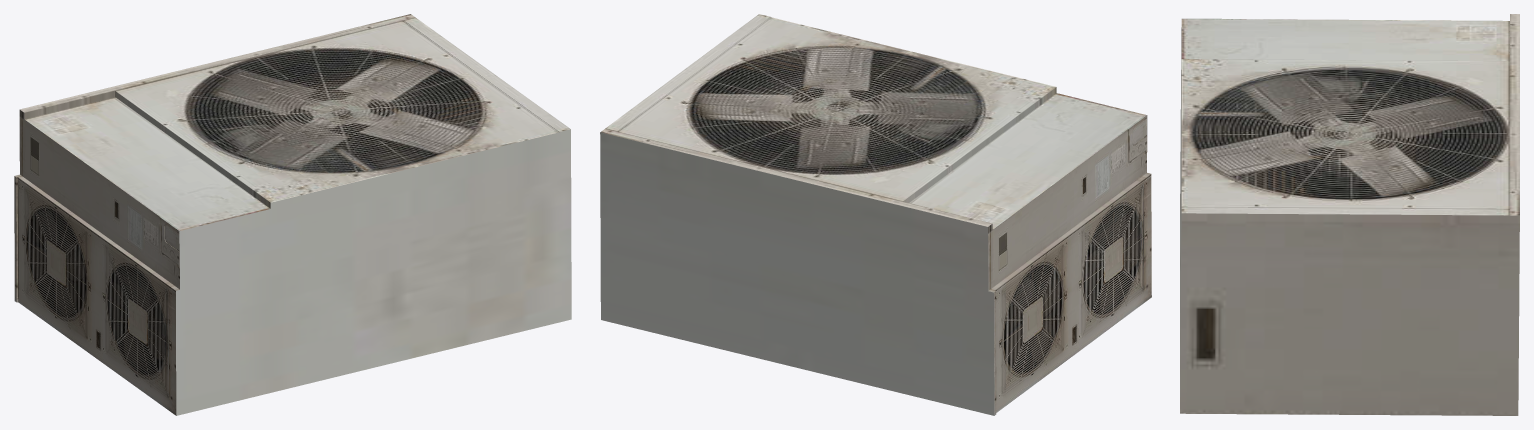
File: AcUnit.obj
The picture shows the model from 3 angles, left to right: view 1: azimuth 30°, elevation 25°; view 2: azimuth 150°, elevation 25°; view 3: azimuth 270°, elevation 25°; orthographic projection. The views are drawn at different scales.
Parts seen in each view (by area): view 1: AC_Cube; view 2: AC_Cube; view 3: AC_Cube.
Boxes of the visible parts, x1,y1,x2,y2 form: AC_Cube: [14, 14, 571, 415]; AC_Cube: [600, 14, 1151, 415]; AC_Cube: [1180, 14, 1519, 415].
Bounding box in the file's own units: 4.53 × 2.09 × 3.18.
